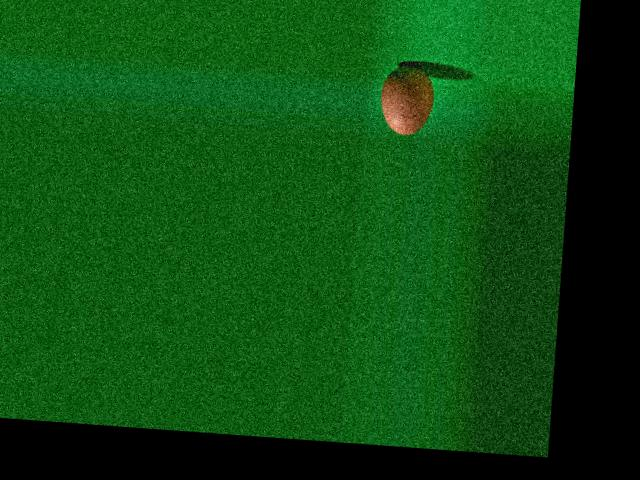egg: (378, 63, 436, 136)
